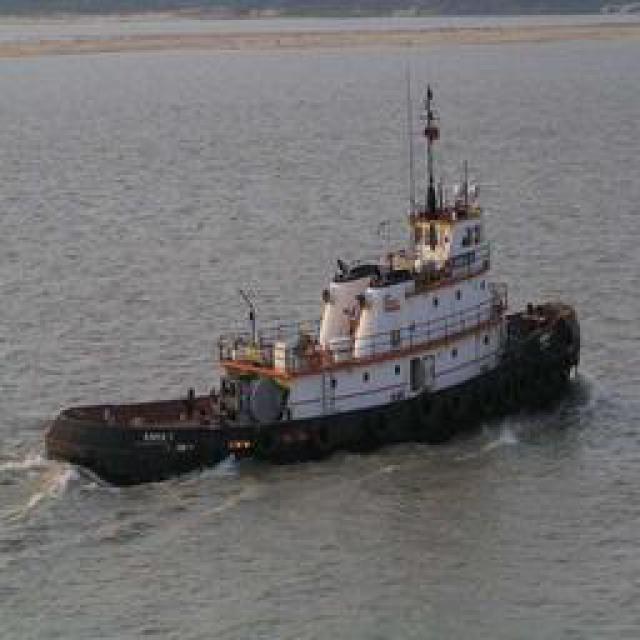Ship: (51, 93, 581, 478)
